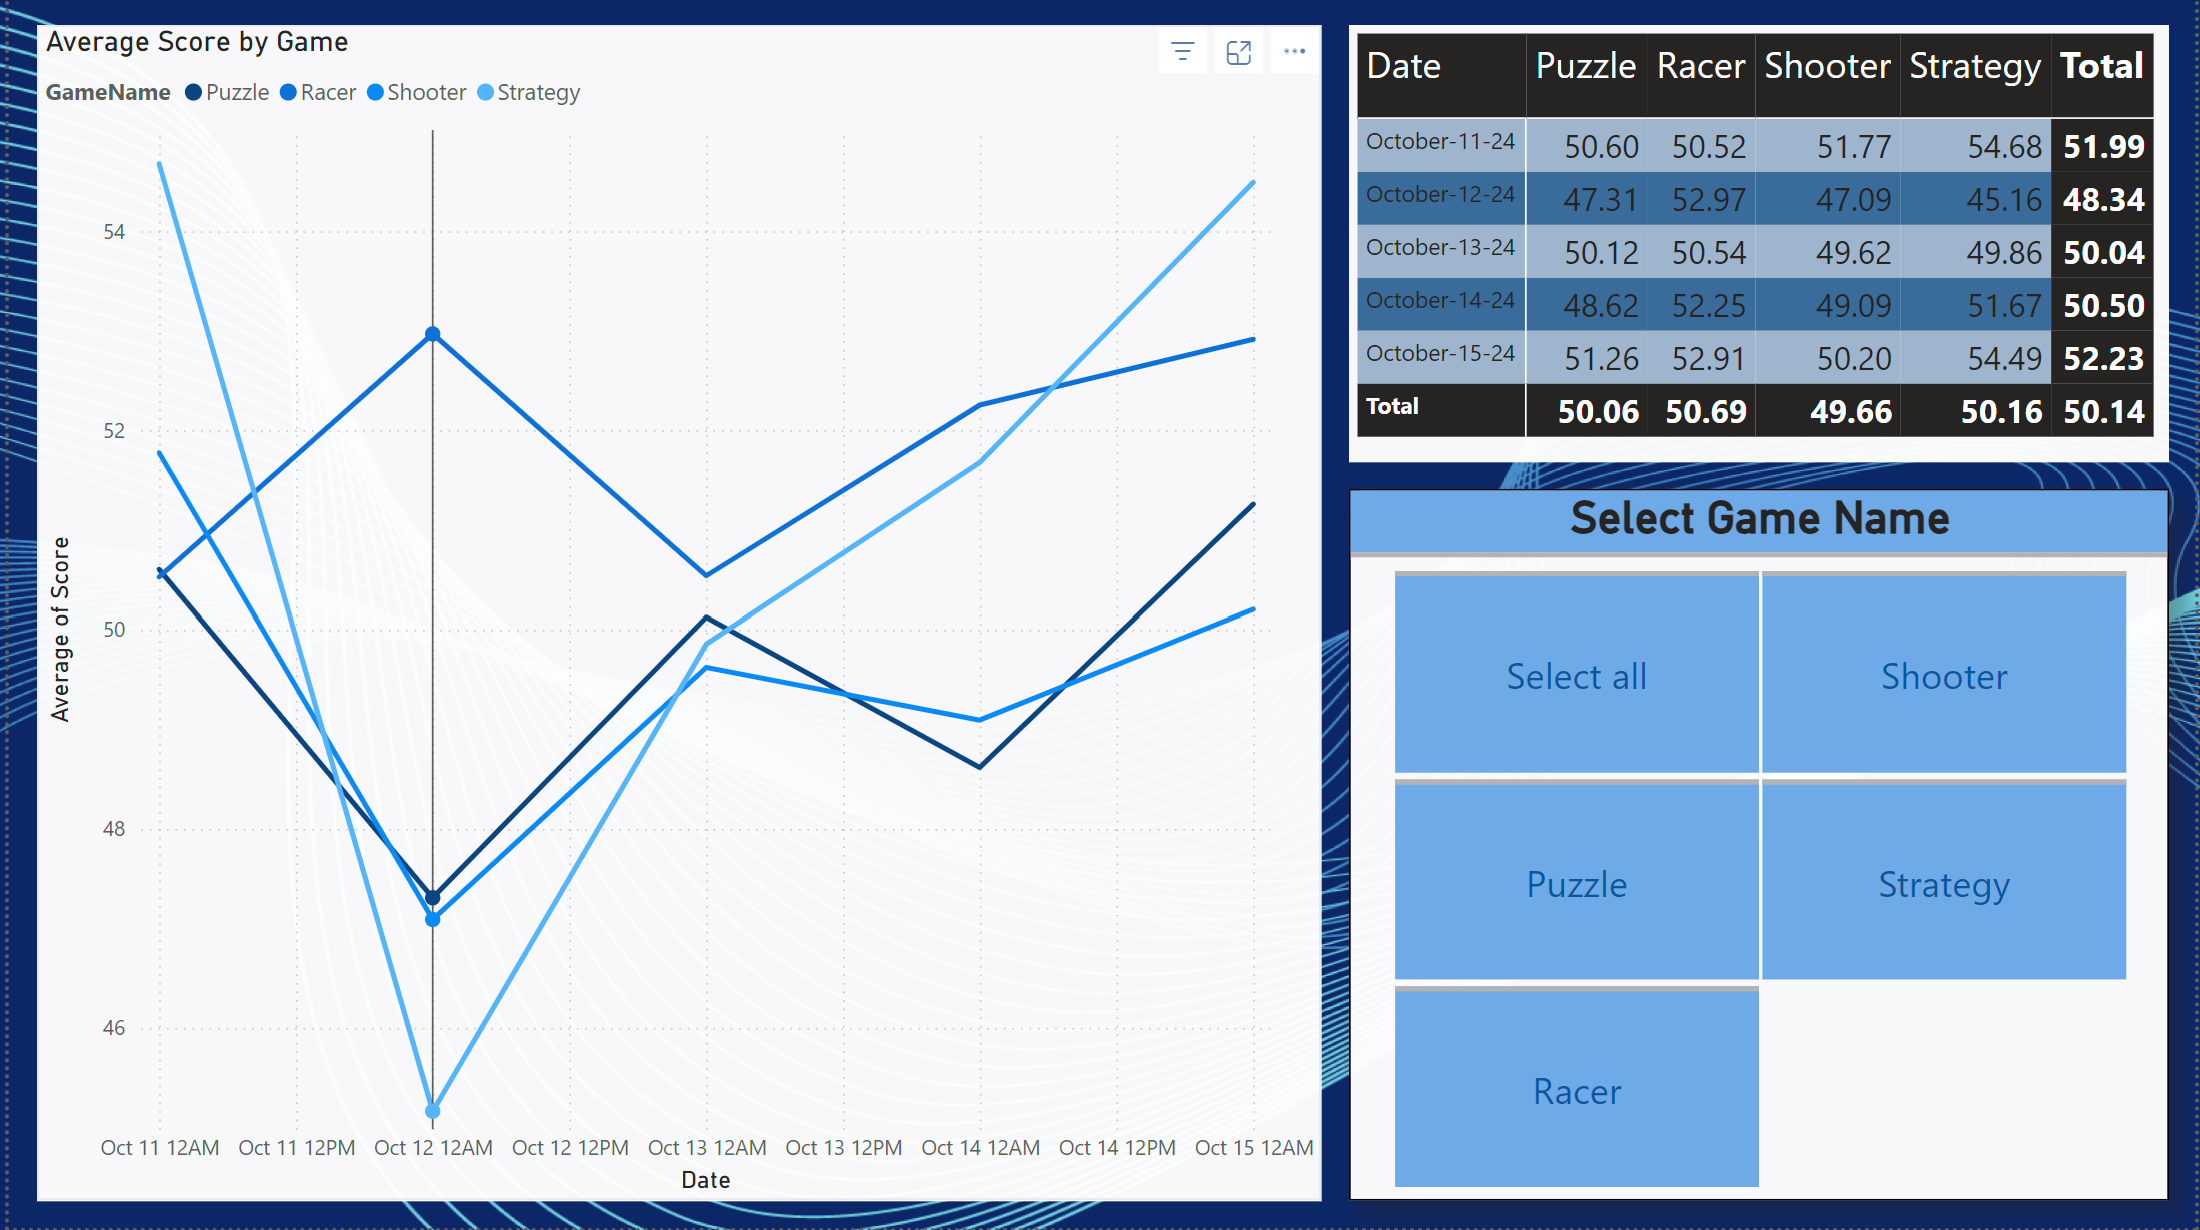

The page's visual inventory and layout, read from the dashboard file:
{"tool":"powerbi","page":{"name":"Game Statistics","canvas":[1280,720],"ordinal":2},"visuals":[{"type":"pivotTable","fields":{"Rows":["GameAnalytics vw_PlayerPerformance.Date"],"Values":["Avg(GameAnalytics vw_PlayerPerformance.Score)"],"Columns":["GameAnalytics vw_PlayerPerformance.GameName"]},"box":[784,16,480,256],"z":0},{"type":"lineChart","title":"Average Score by Game","fields":{"Category":["GameAnalytics vw_PlayerPerformance.Date"],"Y":["Avg(GameAnalytics vw_PlayerPerformance.Score)"],"Series":["GameAnalytics vw_PlayerPerformance.GameName"]},"box":[16,16,752,688],"z":1000},{"type":"slicer","title":"Select Game Name","fields":{"Values":["GameAnalytics vw_PlayerPerformance.GameName"]},"box":[784,288,480,416],"z":2000}]}

Visuals, with their boxes in screenshot pixels (x1, y1, x2, y2), scaled from the page's 1280x720 canvas onto the 2200x1230 screenshot:
pivotTable - GameAnalytics vw_PlayerPerformance.Date x Avg(GameAnalytics vw_PlayerPerformance.Score): select_region(1348, 27, 2172, 465)
"Average Score by Game" lineChart: select_region(28, 27, 1320, 1203)
"Select Game Name" slicer: select_region(1348, 492, 2172, 1203)
